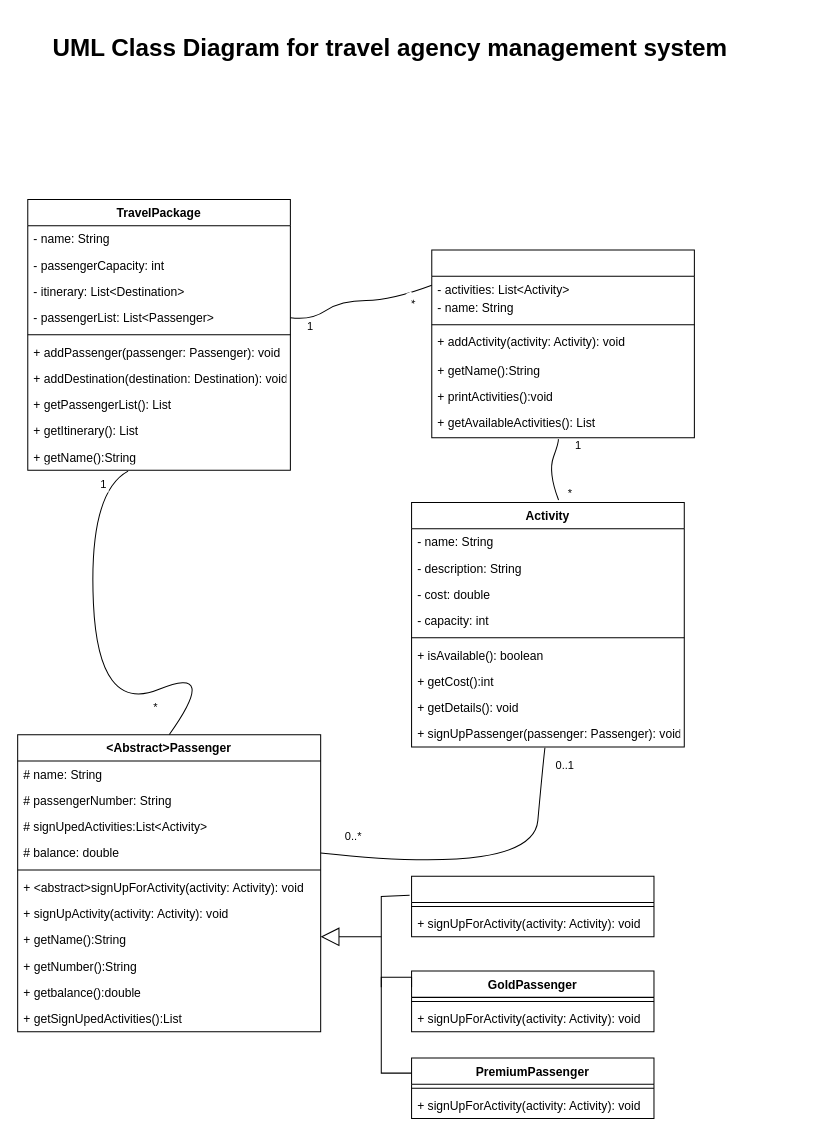
The diagram is 813 pixels wide and 1138 high, and some of its shapes have lost their labels. Here are the shapes that lost their labels. From the top down, the box of each, then its label:
(431, 249, 694, 438): Destination
(411, 875, 654, 937): StandardPassenger
